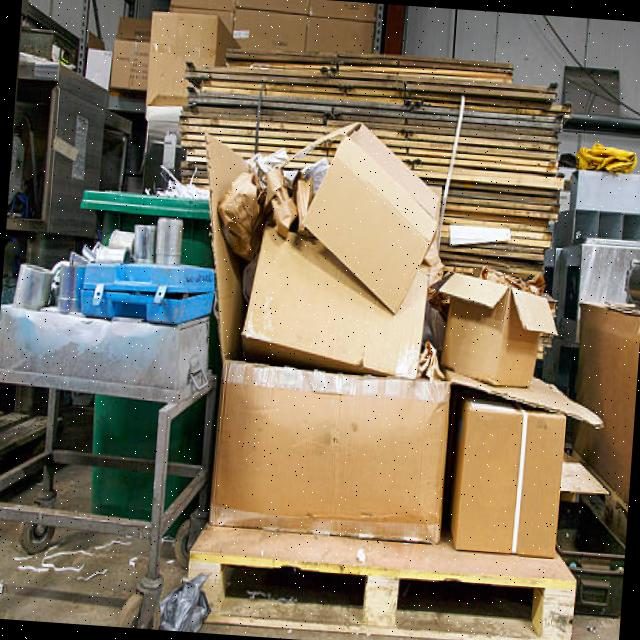Wooden-Pallets: (200, 546, 572, 640)
